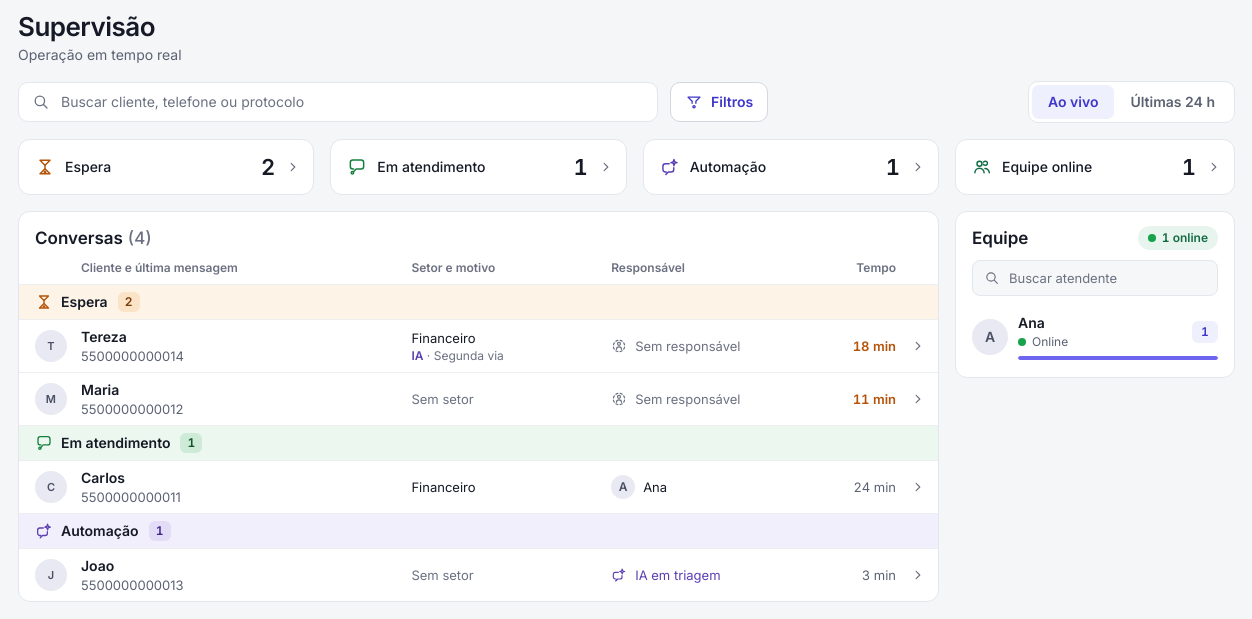
Test case: Supervisão: busca única › por telefone: filtra enquanto digita e, com Enter, busca todos os atendimentos do cliente
Type "5500000000012" into the search field labelled "Buscar cliente, telefone ou protocolo".
click(338, 102); type("5500000000012")  # box 18,82 -> 658,122
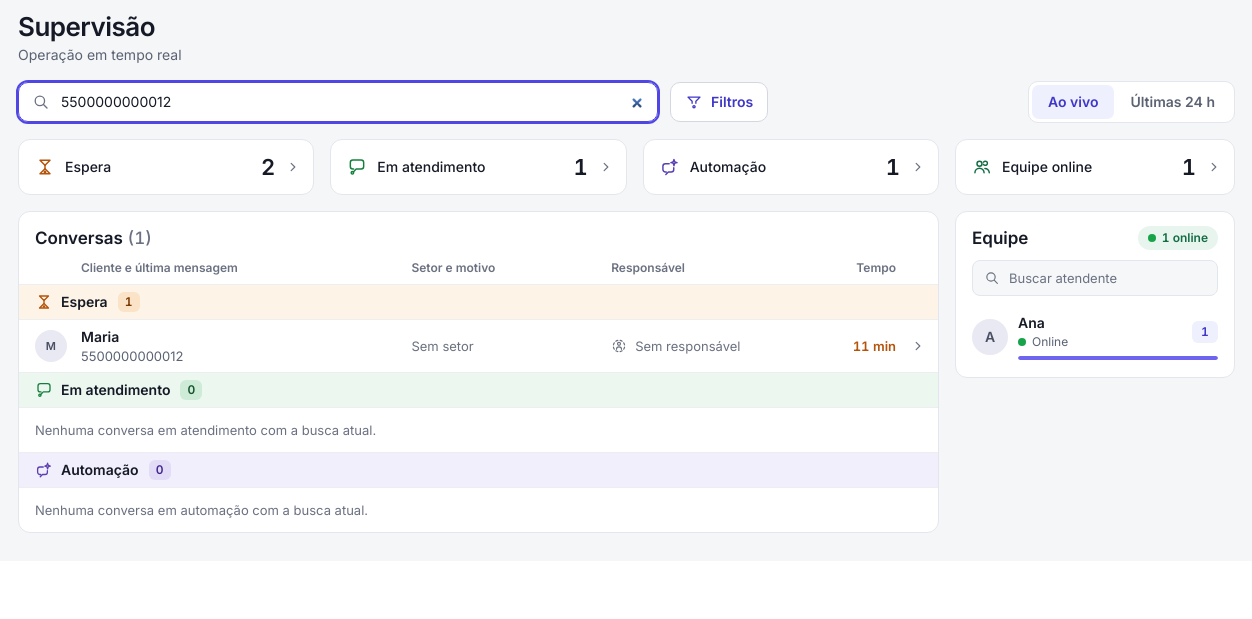
Check: the button "M Maria 5500000000012 Sem setor Sem responsável 11 min" is shown, box 19,320 -> 938,372
Check: the button "Carlos" is gone
Replace the text in the search field named "Buscar cliente, telefone ou protocolo" with "+55 00 00000-0099" at (338, 102), box 18,82 -> 658,122
Then press Enter
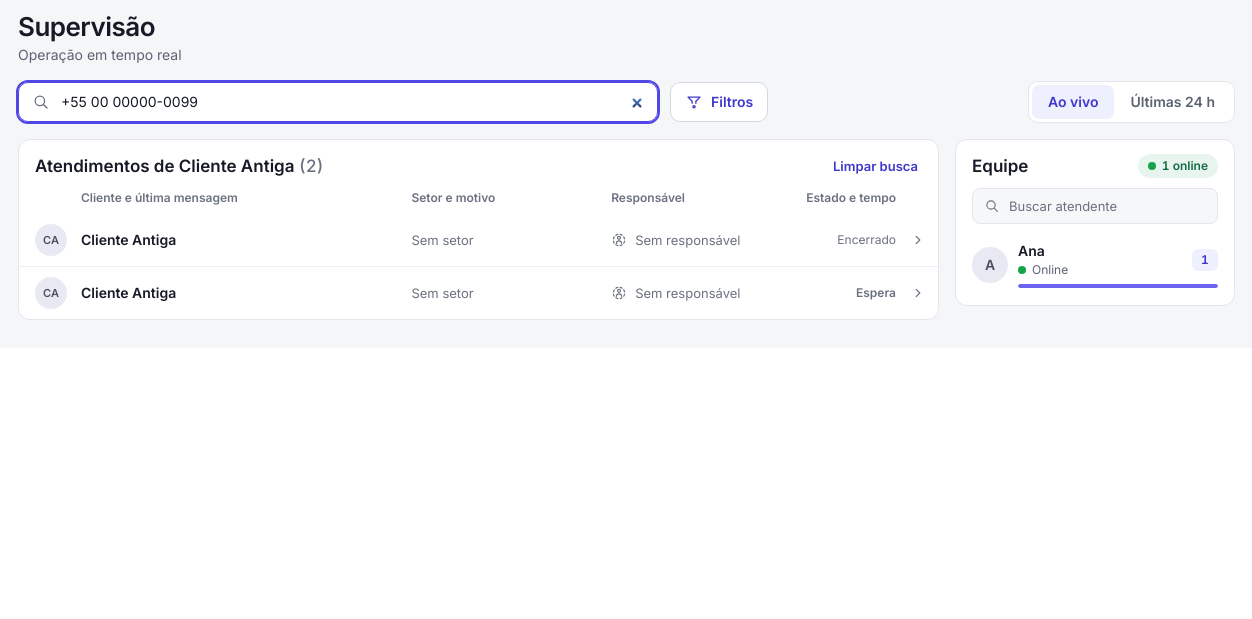
Check: the number of buttons "CA Cliente Antiga Sem setor Sem responsável Encerrado" is 2, box 19,214 -> 938,266; 19,267 -> 938,319
